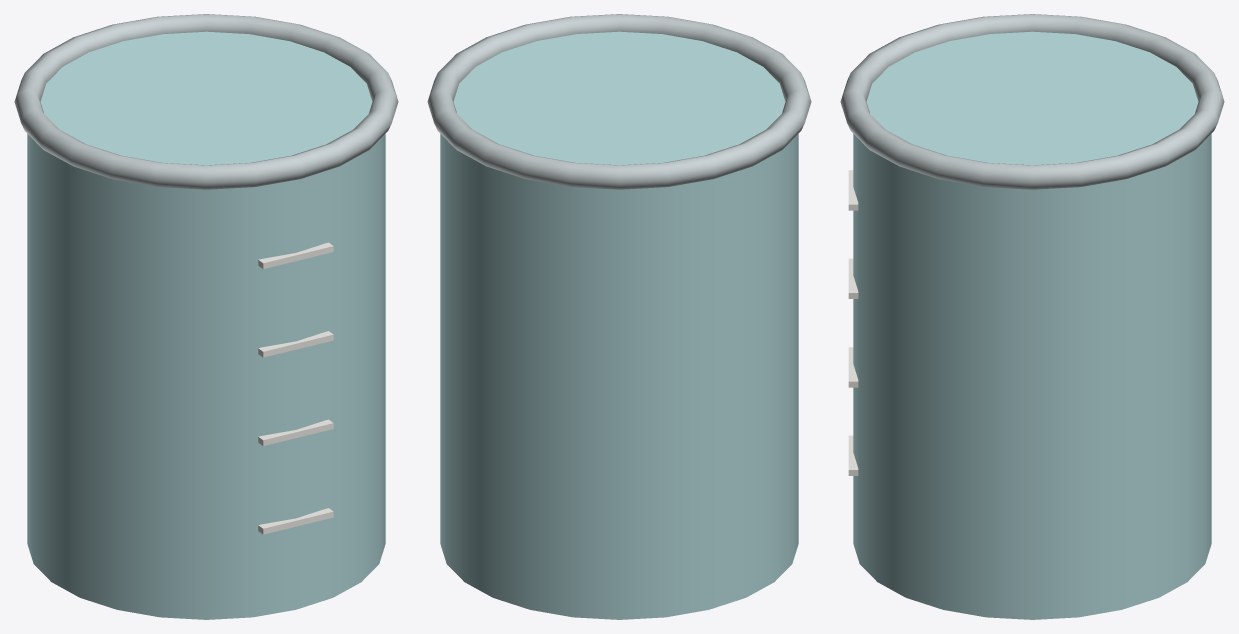
File: Beaker.fbx
3 views of the same model, side by side, from view 1: azimuth 30°, elevation 25°; view 2: azimuth 150°, elevation 25°; view 3: azimuth 270°, elevation 25° (orthographic).
Parts seen in each view (by area): view 1: Beaker_Glass, Beaker_Steel, Beaker_White; view 2: Beaker_Glass, Beaker_Steel; view 3: Beaker_Glass, Beaker_Steel, Beaker_White.
Boxes of the visible parts, x1,y1,x2,y2 form: Beaker_Glass: (27, 31, 385, 619); Beaker_Steel: (14, 14, 398, 189); Beaker_White: (258, 242, 333, 534); Beaker_Glass: (440, 31, 798, 619); Beaker_Steel: (427, 14, 811, 189); Beaker_Glass: (853, 31, 1211, 619); Beaker_Steel: (840, 14, 1224, 189); Beaker_White: (848, 170, 858, 475).
Size of the model in its own units: 11.8 by 15.4 by 11.8.
